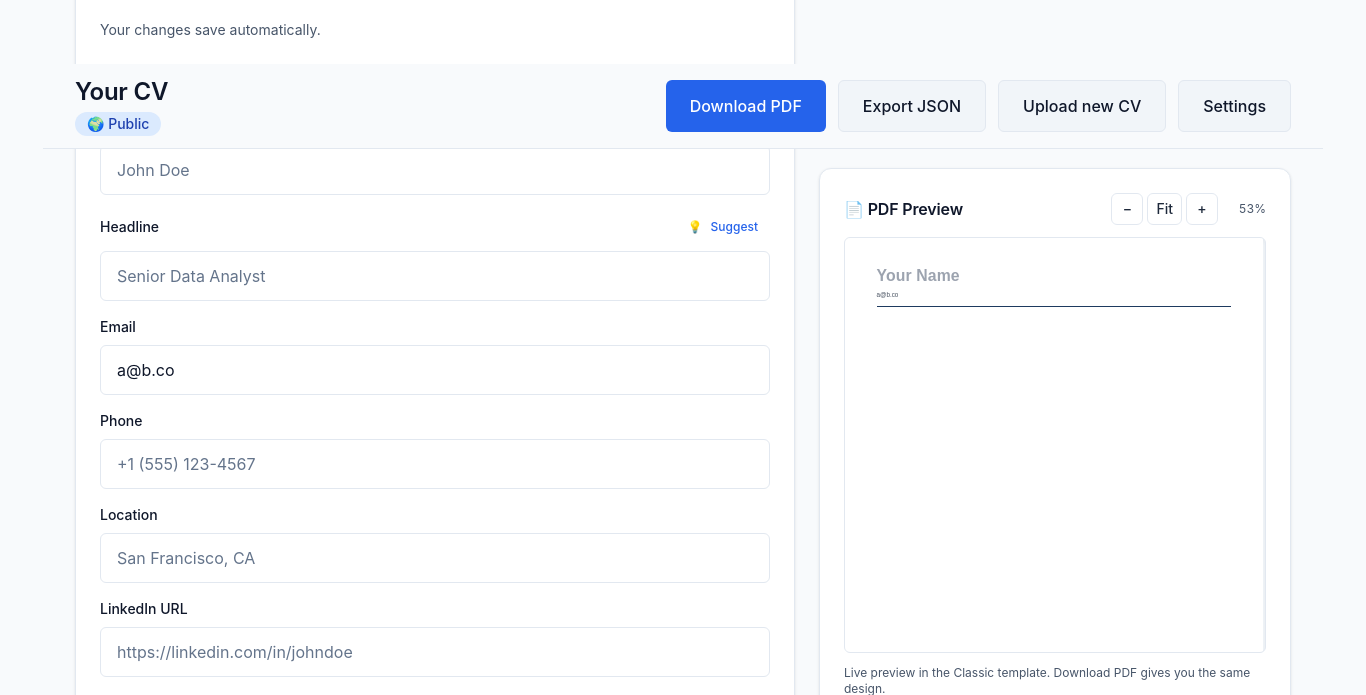
CanvasPage saving › retries a failed save and keeps the edit flag
(page scrolled)
Type "1" into the field labelled "Phone" at [435, 464], box [100,439,770,489]
Wait 7000 ms
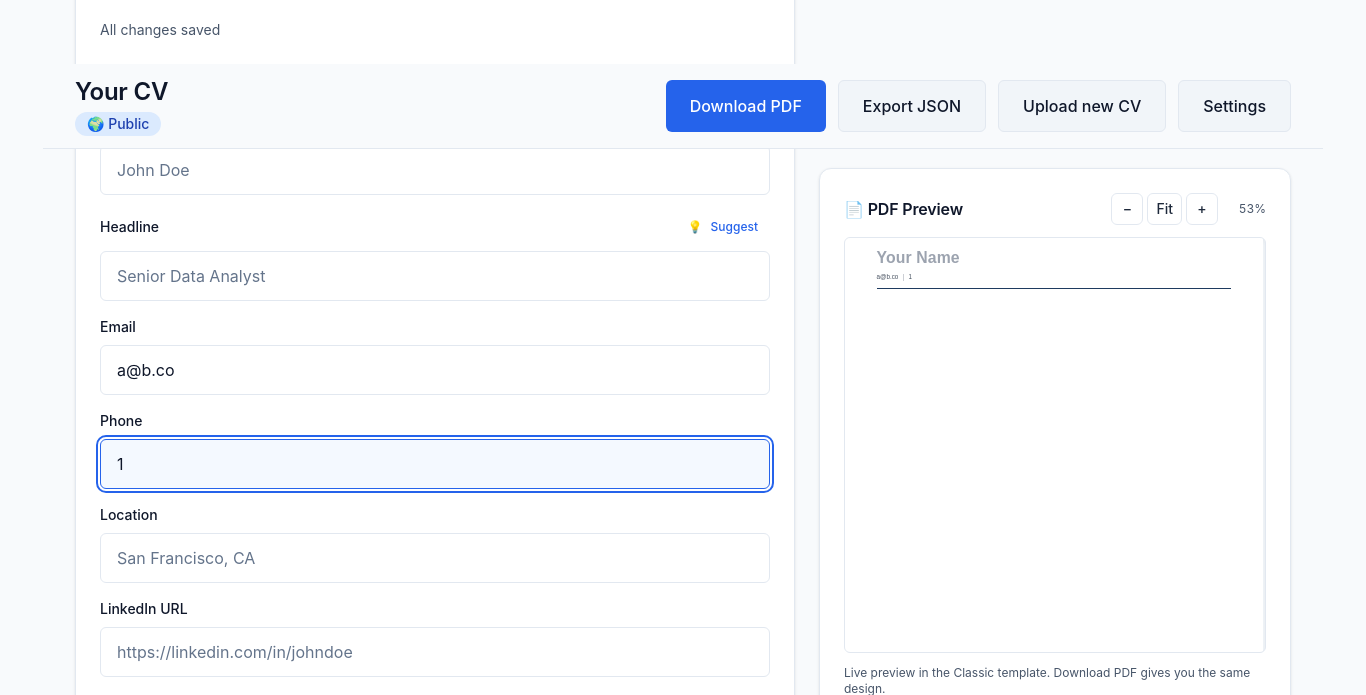
Expected: the text "All changes saved" is shown, [100,21,220,38]
